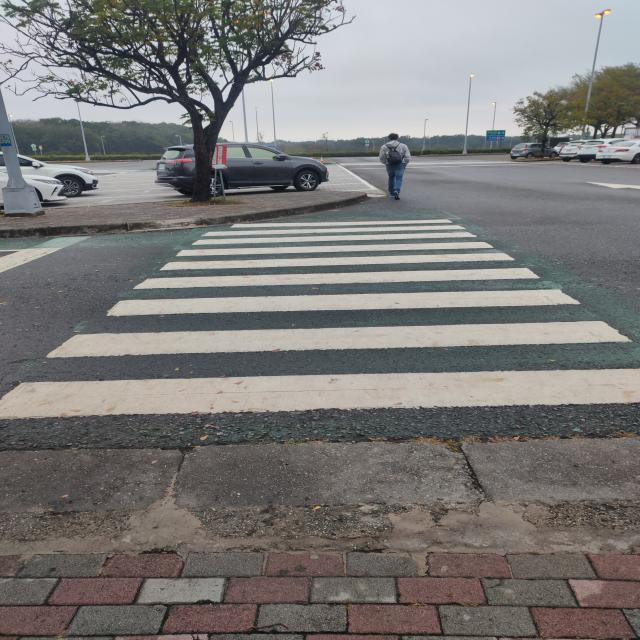person: (380, 134, 410, 200)
zebra crossing: (1, 215, 640, 418)
